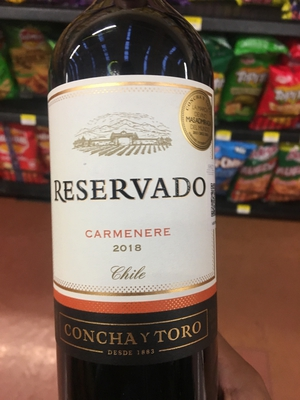reservado carmenere: (47, 11, 218, 399)
